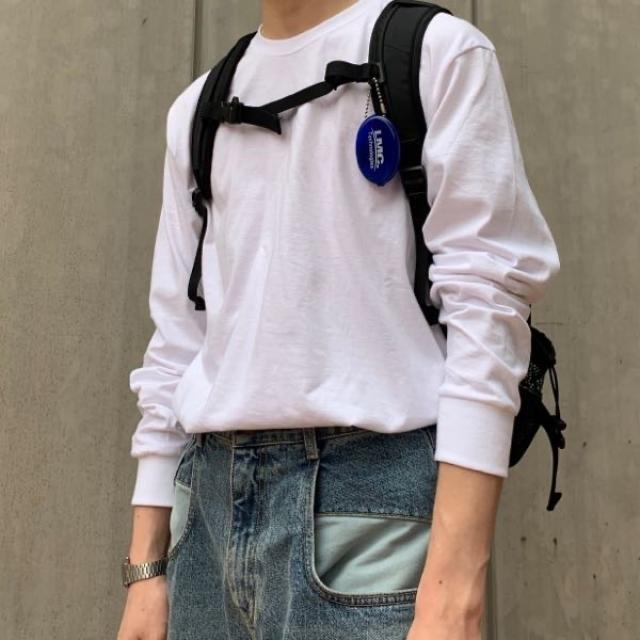denimpants: (165, 425, 443, 640)
longsleeve: (130, 0, 560, 505)
